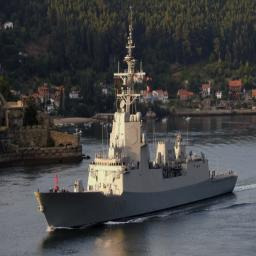Fragata: (35, 11, 240, 238)
